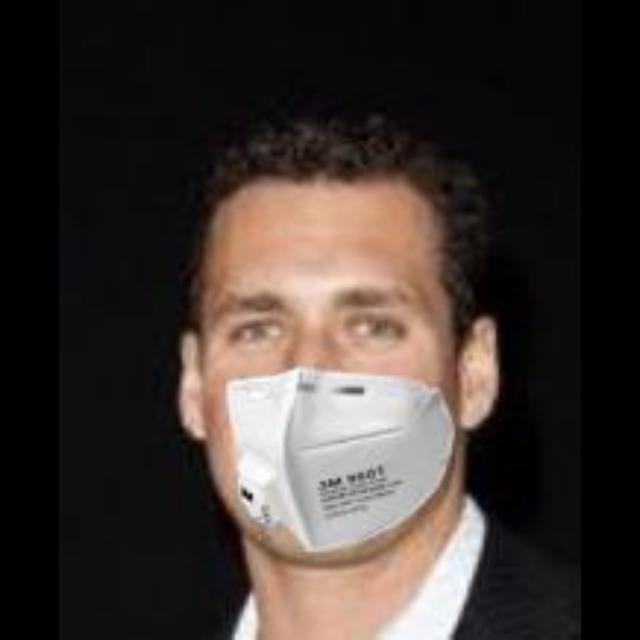suspicion: (166, 79, 518, 575)
